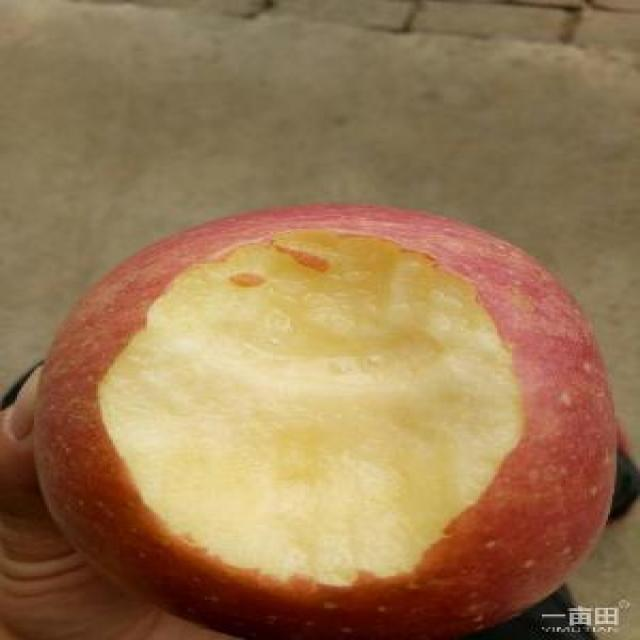Rotten: (64, 206, 640, 640)
